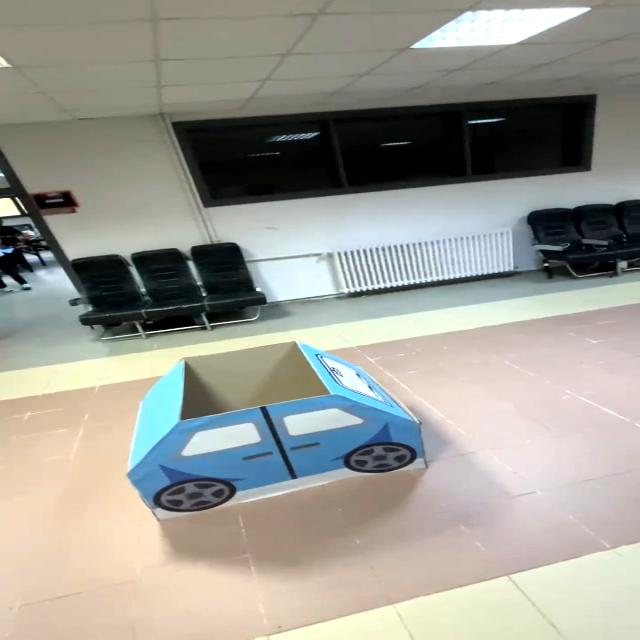blue_car: (0, 319, 512, 523)
